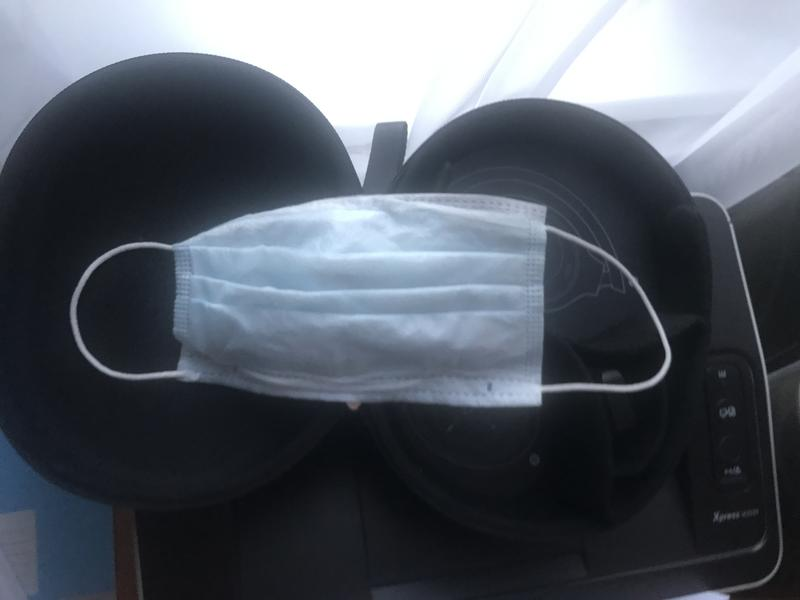medical_mask: (69, 189, 670, 406)
